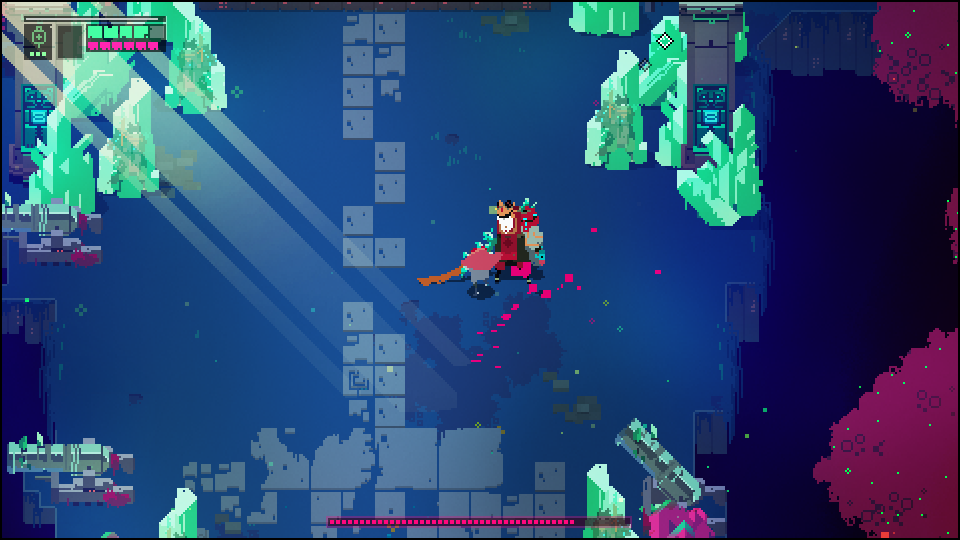hanged_man: (455, 194, 561, 290)
player: (461, 243, 505, 297)
